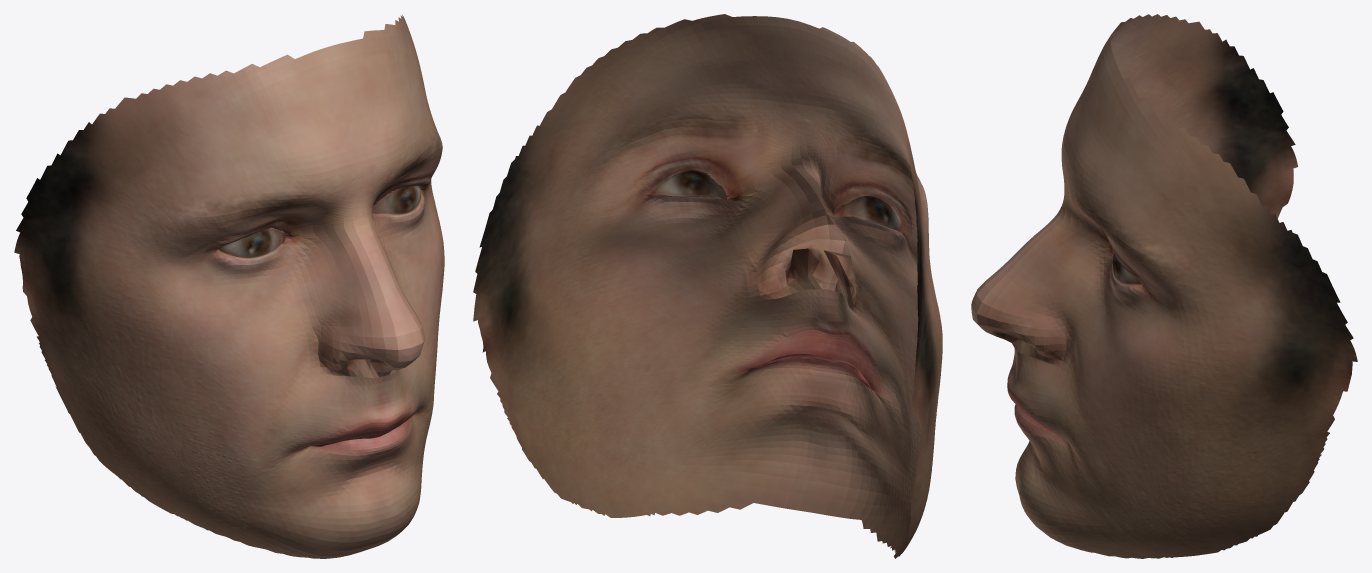
Rendered from generated.photos_v3_0003040_mesh.obj.
3 renders of one model, left to right at view 1: azimuth 30°, elevation 25°; view 2: azimuth 150°, elevation 25°; view 3: azimuth 270°, elevation 25°, orthographic. The views are drawn at different scales.
Bounding box in the file's own units: 1.43 × 1.71 × 1.26.
